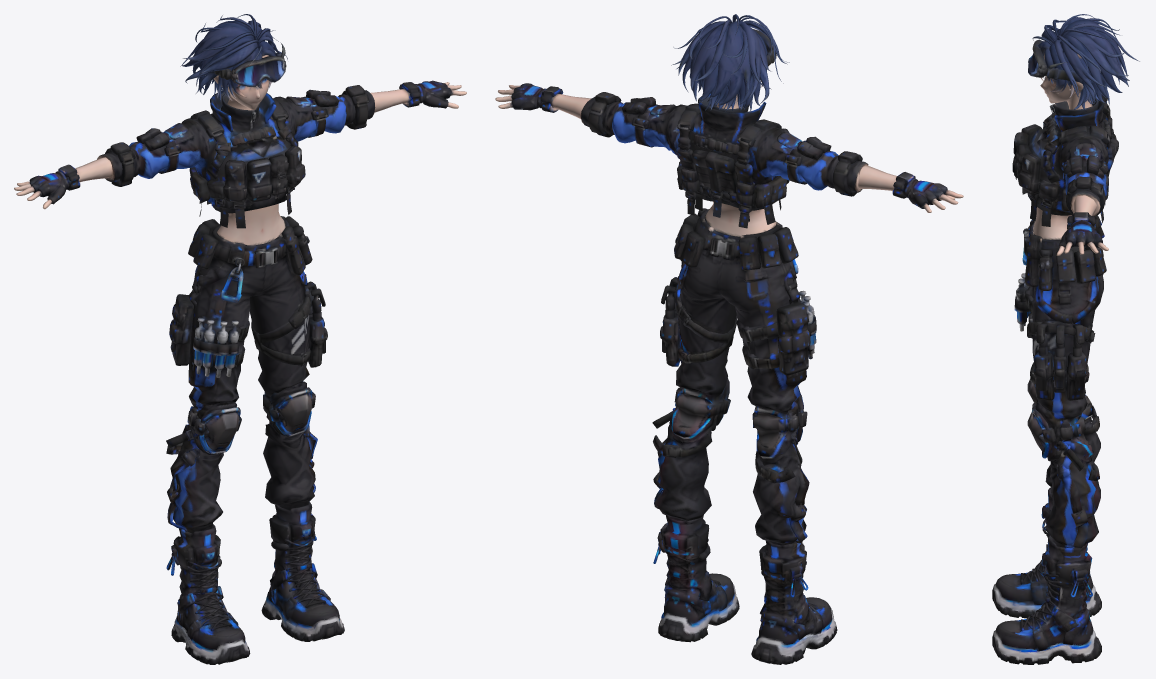
File: alex.glb
3 views of the same model, side by side, from view 1: azimuth 30°, elevation 25°; view 2: azimuth 150°, elevation 25°; view 3: azimuth 270°, elevation 25° (orthographic). The views are drawn at different scales.
Parts seen in each view (by area): view 1: tripo_node_64a7ad31-8623-40c7-8c8e-0ac16e8c6f7f; view 2: tripo_node_64a7ad31-8623-40c7-8c8e-0ac16e8c6f7f; view 3: tripo_node_64a7ad31-8623-40c7-8c8e-0ac16e8c6f7f.
Boxes of the visible parts, x1,y1,x2,y2 form: tripo_node_64a7ad31-8623-40c7-8c8e-0ac16e8c6f7f: (14,14,466,664); tripo_node_64a7ad31-8623-40c7-8c8e-0ac16e8c6f7f: (495,14,963,664); tripo_node_64a7ad31-8623-40c7-8c8e-0ac16e8c6f7f: (992,14,1139,664).
Size of the model in its own units: 0.7661 by 0.9995 by 0.2212.
Materials: 1 (1 with a texture image).
